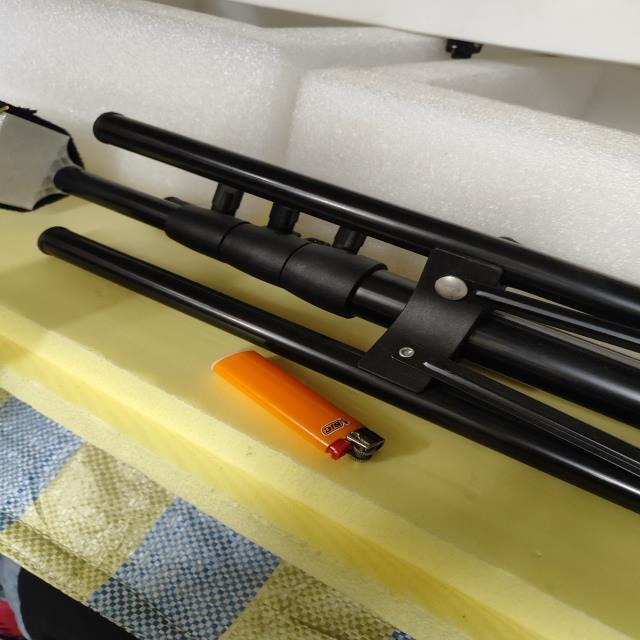lighter: (212, 351, 383, 459)
